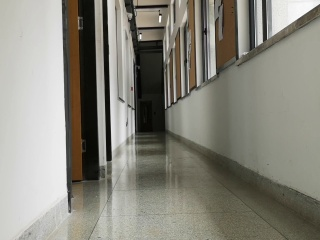room: (58, 1, 100, 184)
